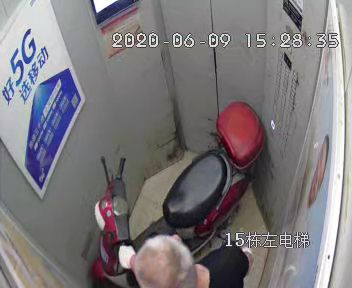Electric-bicycle: (89, 100, 264, 288)
